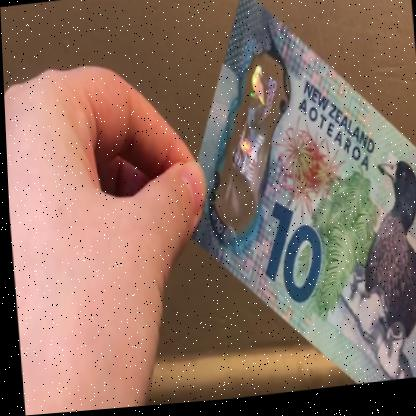10F: (222, 61, 283, 193)
